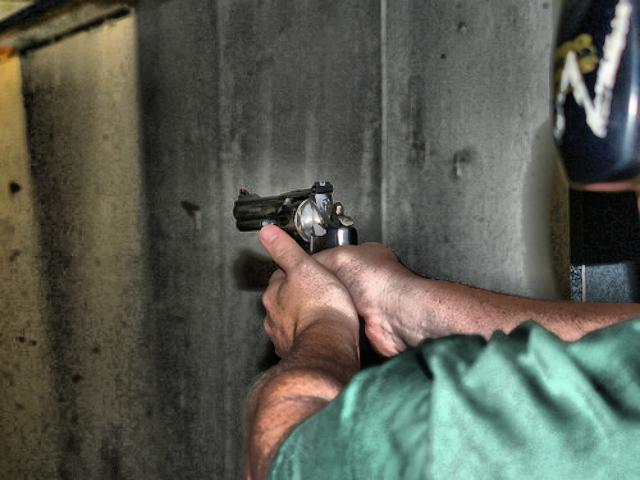pistol: (231, 173, 369, 356)
